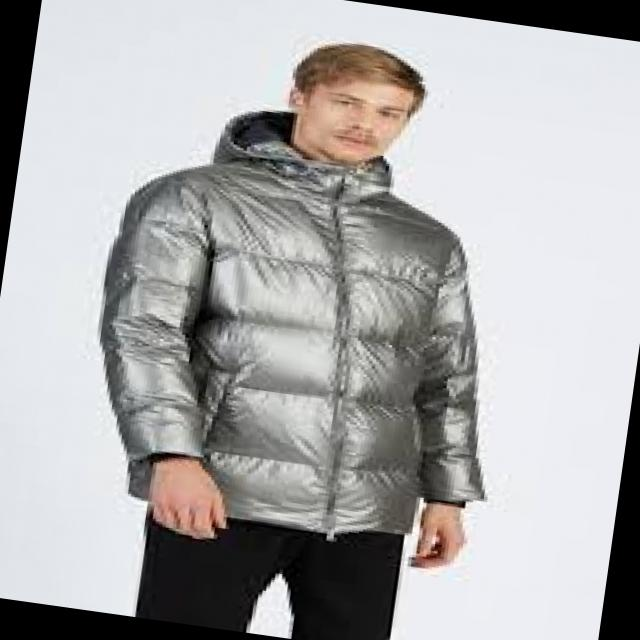Jacket: (46, 133, 561, 602)
